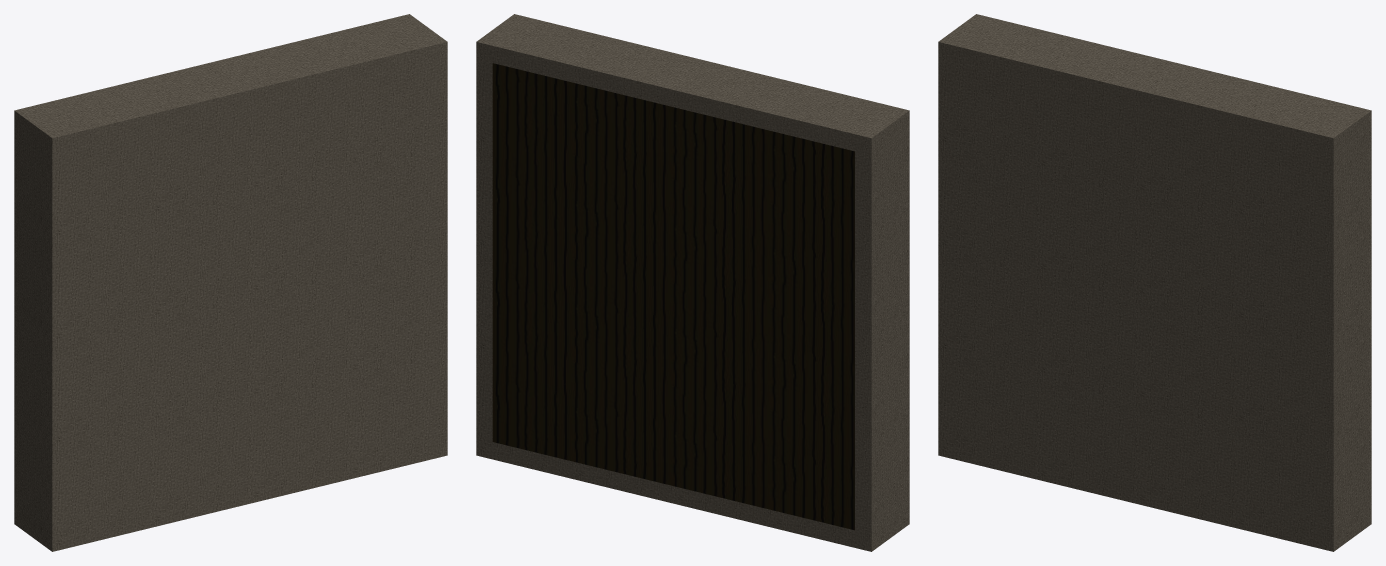
File: BassBox 48x48x8.glb
The picture shows the model from 3 angles, left to right: view 1: azimuth 30°, elevation 25°; view 2: azimuth 150°, elevation 25°; view 3: azimuth 330°, elevation 25°; orthographic projection.
Parts seen in each view (by area): view 1: 434; view 2: 517, 434; view 3: 434.
Boxes of the visible parts, x1,y1,x2,y2 form: 434: [14, 14, 447, 551]; 517: [492, 63, 854, 530]; 434: [476, 14, 909, 551]; 434: [938, 14, 1371, 551].
Bounding box in the file's own units: 1.22 × 1.22 × 0.2032.
Materials: 15 (15 with a texture image).
